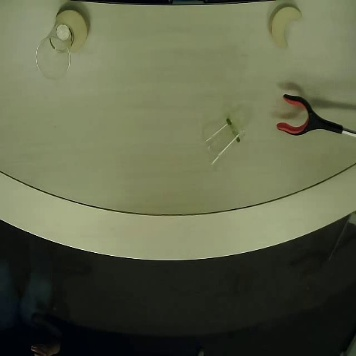empty_cup: (200, 111, 247, 171), (35, 21, 73, 79)
puck: (54, 9, 87, 54), (268, 4, 301, 49)
